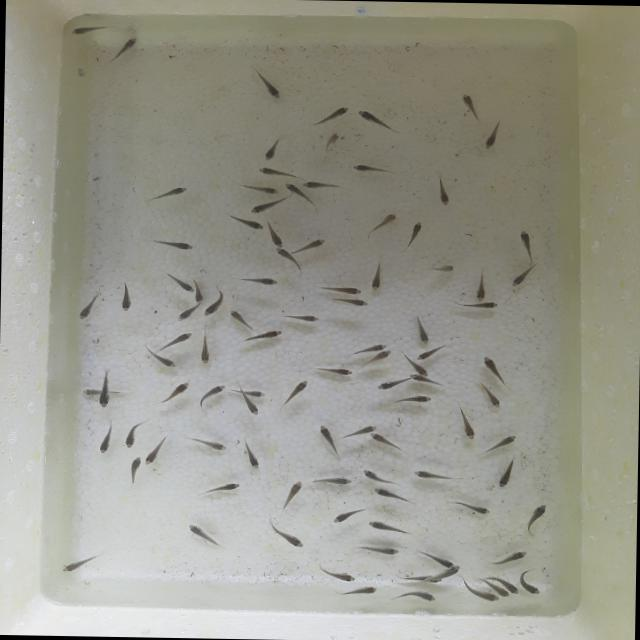fingerling: (354, 107, 401, 137), (56, 547, 102, 577), (250, 66, 285, 102), (310, 560, 358, 585), (266, 522, 306, 551), (104, 34, 141, 65), (518, 497, 548, 534), (182, 522, 224, 547), (444, 497, 494, 518), (237, 434, 266, 470), (307, 103, 350, 127), (454, 404, 480, 443), (388, 587, 438, 607), (491, 545, 532, 569), (143, 432, 171, 466), (410, 466, 460, 485), (350, 540, 402, 558), (280, 377, 310, 408), (366, 210, 399, 238), (158, 380, 192, 407), (328, 502, 366, 526), (64, 21, 112, 40), (429, 174, 454, 210), (76, 288, 102, 322), (146, 235, 198, 252), (150, 182, 190, 204), (93, 420, 116, 458), (371, 487, 417, 506), (182, 434, 230, 452), (472, 266, 496, 302), (482, 116, 504, 154), (308, 472, 354, 490), (367, 431, 408, 451), (314, 420, 338, 454), (202, 284, 226, 318), (360, 466, 400, 486), (248, 196, 288, 216), (366, 518, 410, 536), (279, 476, 306, 505), (196, 382, 226, 408), (313, 282, 365, 297), (400, 221, 426, 251), (409, 314, 433, 346), (229, 274, 280, 289), (195, 329, 215, 367), (122, 417, 145, 450), (485, 431, 518, 454), (163, 271, 196, 294), (294, 235, 330, 256), (254, 162, 296, 180), (515, 228, 536, 264), (198, 479, 242, 496), (458, 91, 482, 122), (392, 392, 438, 408), (496, 457, 517, 492), (518, 568, 544, 596), (116, 279, 136, 315), (122, 455, 143, 488), (346, 162, 392, 177), (302, 178, 345, 194), (370, 374, 408, 392), (479, 384, 504, 411), (479, 354, 504, 381), (227, 307, 254, 332), (259, 136, 284, 163), (508, 266, 536, 290), (162, 329, 194, 349), (336, 583, 378, 598), (238, 182, 282, 196), (329, 296, 372, 310), (369, 259, 387, 292), (227, 214, 264, 230), (312, 364, 354, 378), (281, 311, 322, 325), (264, 219, 284, 247), (450, 299, 500, 310), (99, 365, 111, 408), (174, 303, 198, 324), (321, 131, 342, 155), (415, 346, 445, 362), (255, 328, 284, 344), (426, 262, 456, 276), (153, 354, 179, 370), (193, 276, 206, 306), (242, 399, 260, 418), (282, 182, 304, 196), (444, 564, 462, 578), (270, 246, 290, 258), (355, 423, 379, 432), (506, 583, 522, 596), (246, 389, 266, 399), (80, 386, 99, 396), (486, 592, 500, 604), (380, 348, 394, 359), (407, 372, 421, 382), (371, 342, 388, 350), (417, 366, 428, 378), (498, 590, 510, 599)
